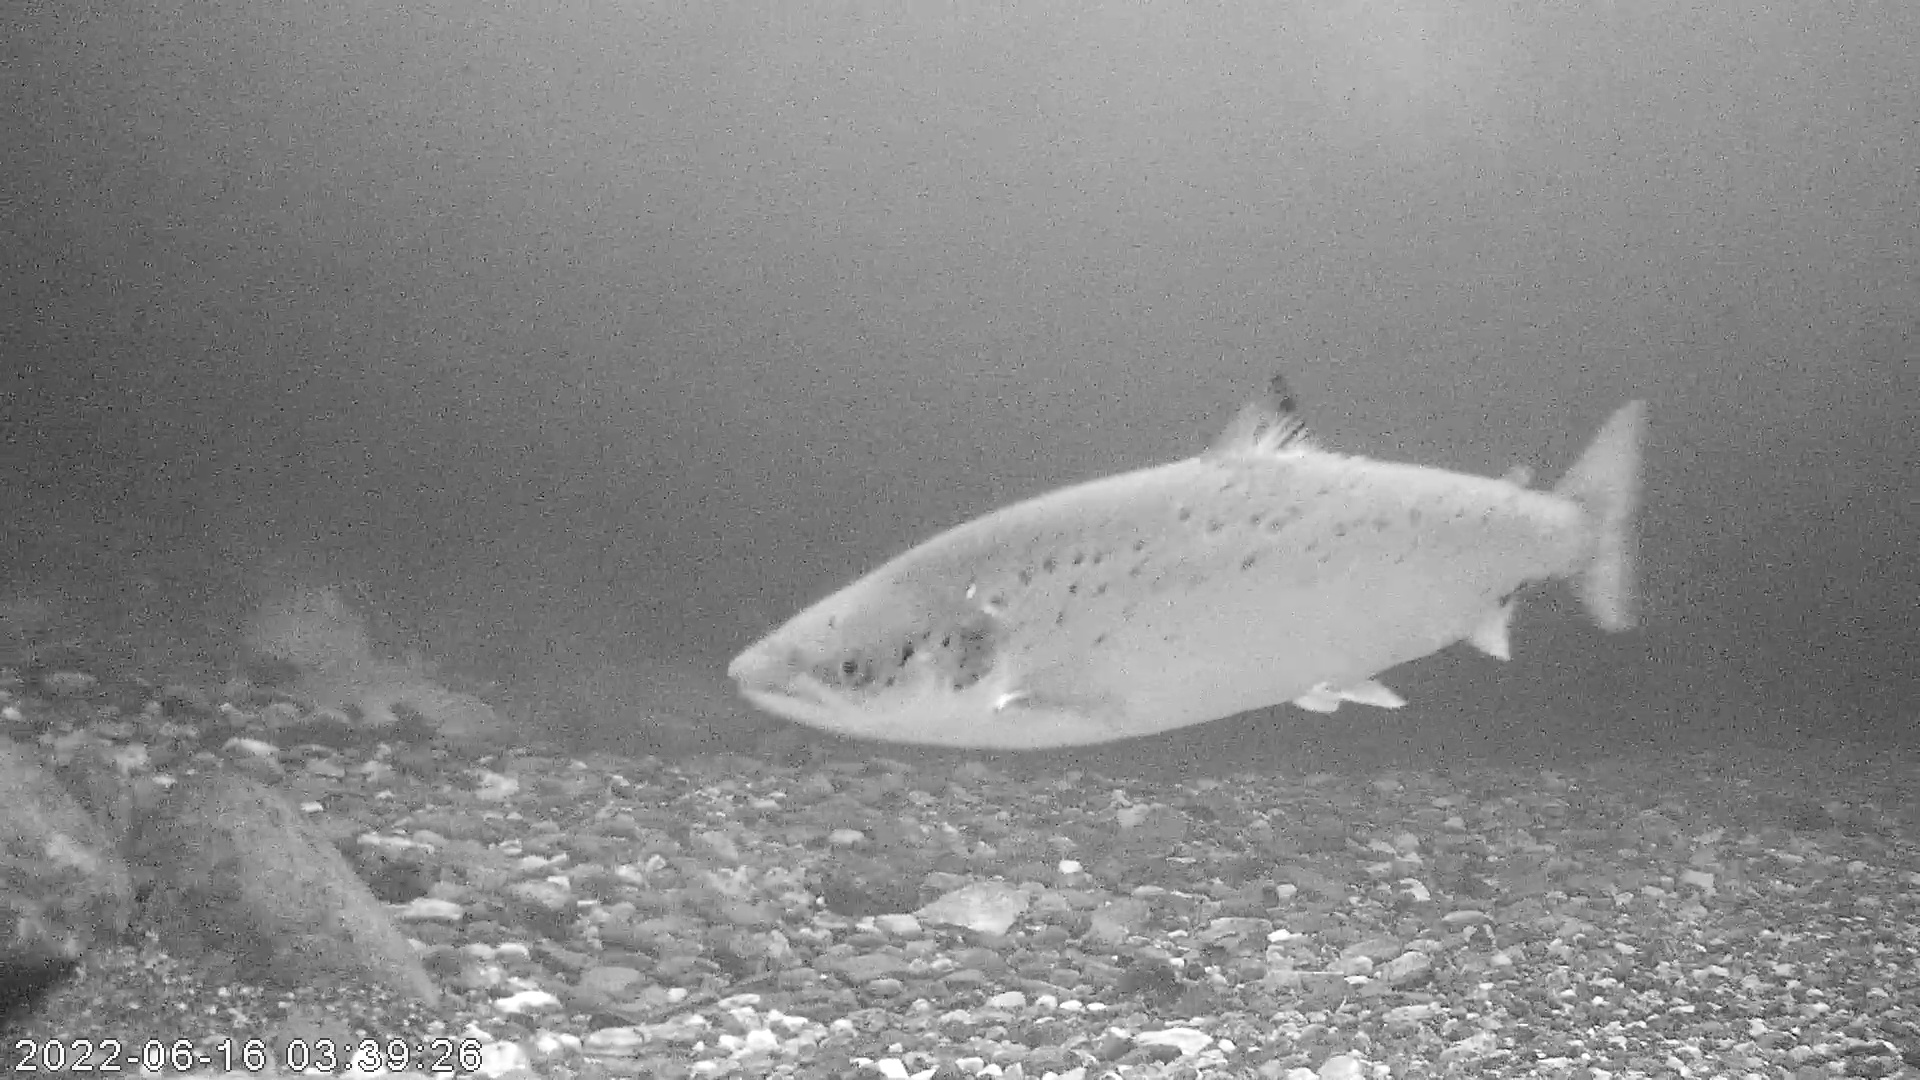salmon: (725, 371, 1655, 752)
